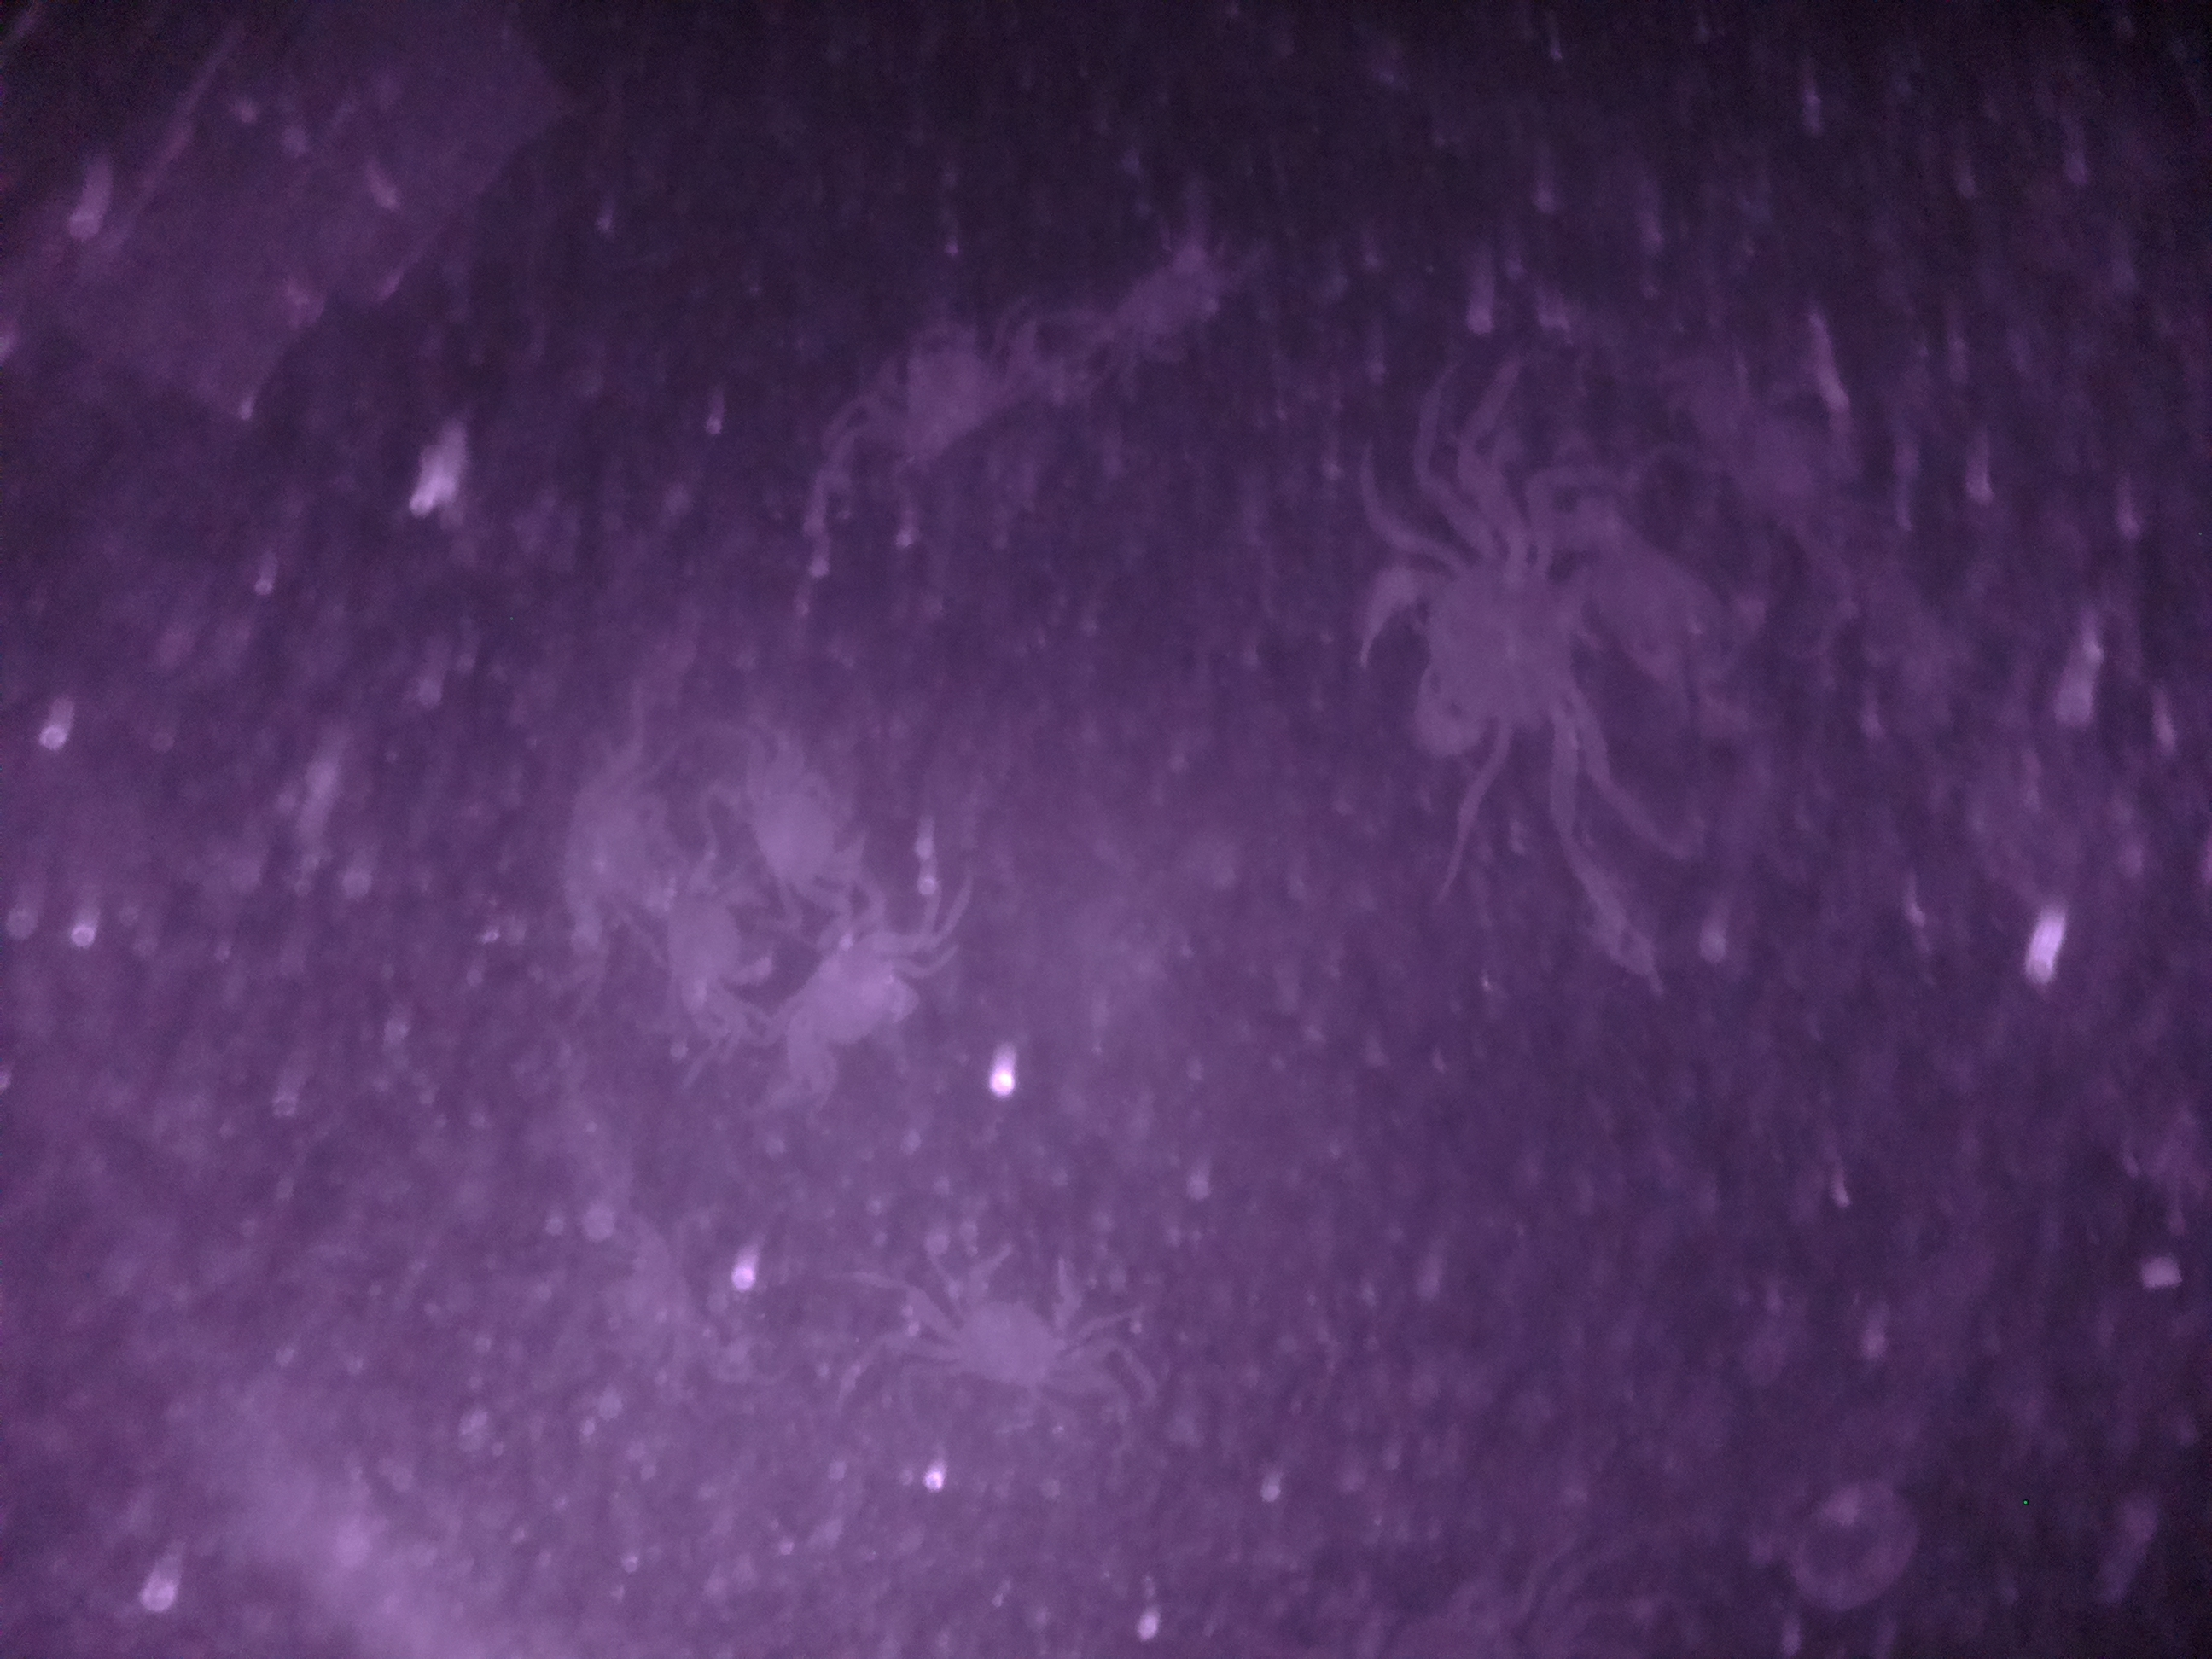Crab: (1345, 502, 1609, 791)
